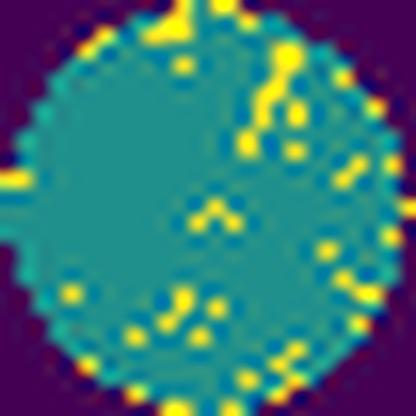Scratch: (234, 37, 309, 164)
